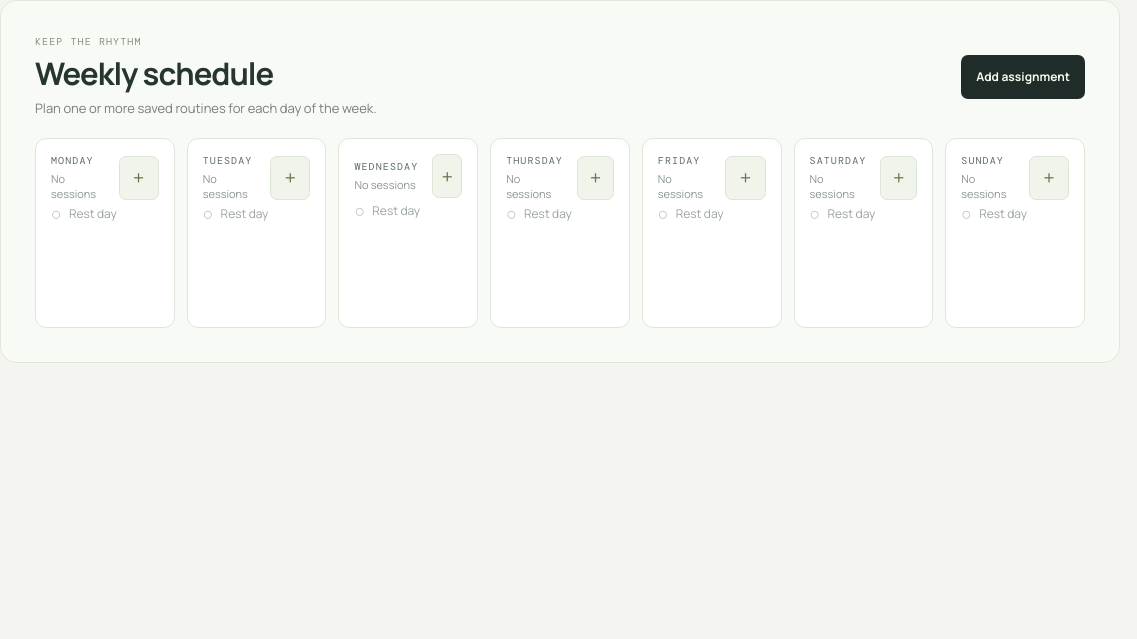
ScheduleEditor › adds an assignment for a weekday and persists it through the storage adapter
Click the button "Add assignment" at (1023, 77), box [961,55,1085,99]
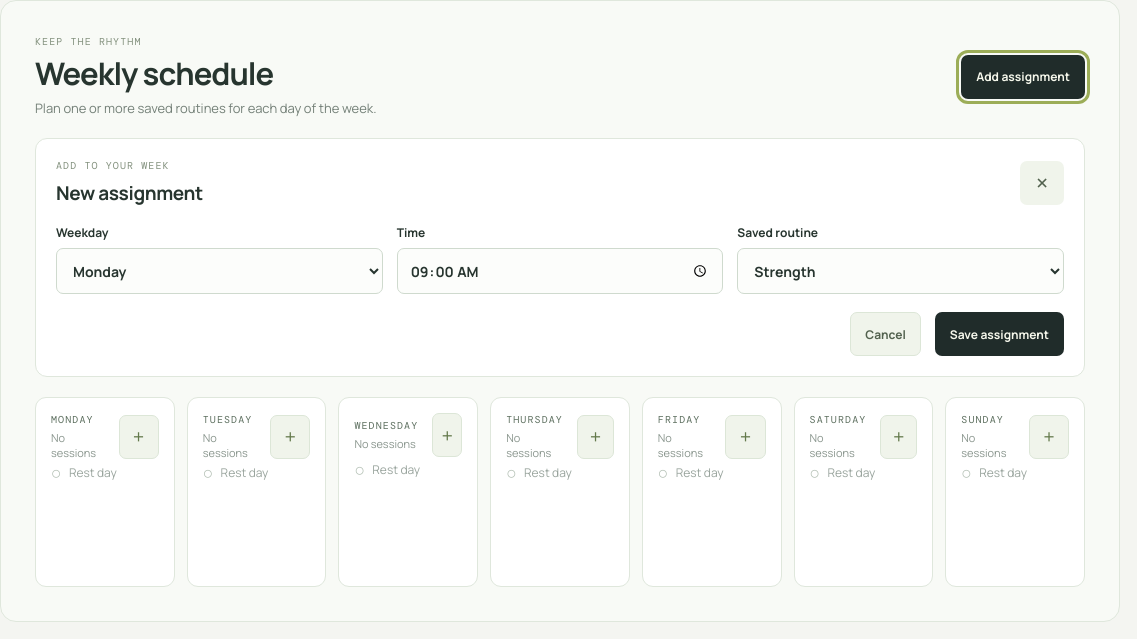
Select "Wednesday" in the dropdown labelled "Weekday" at (219, 271), box [56,248,383,294]
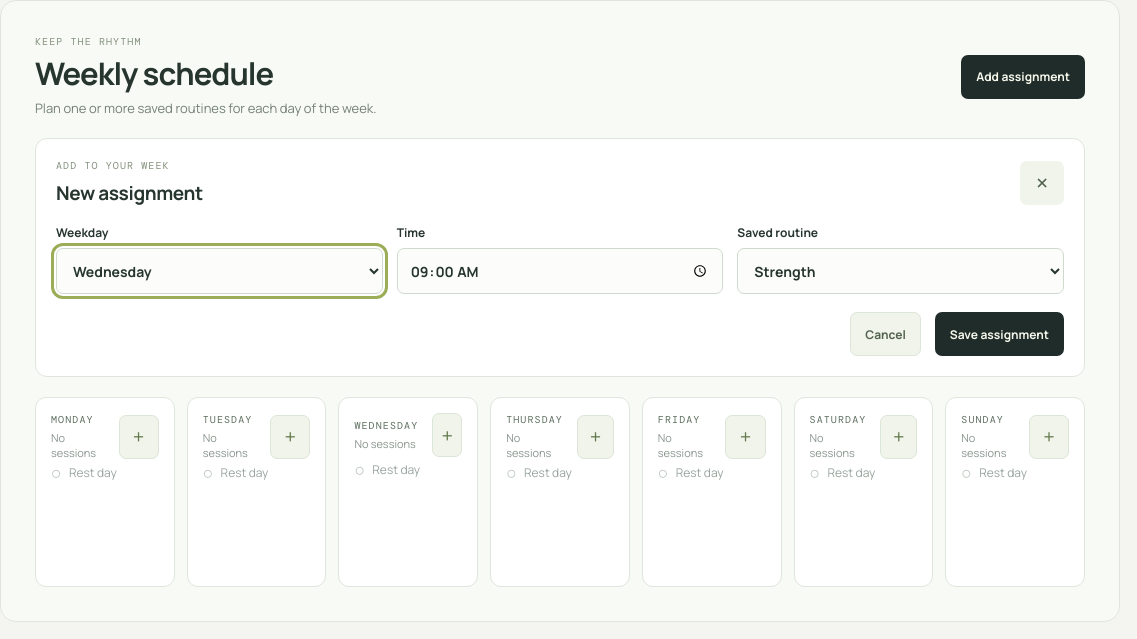
Replace the text in the time field labelled "Time" with "18:30" at (560, 271), box [397,248,723,294]
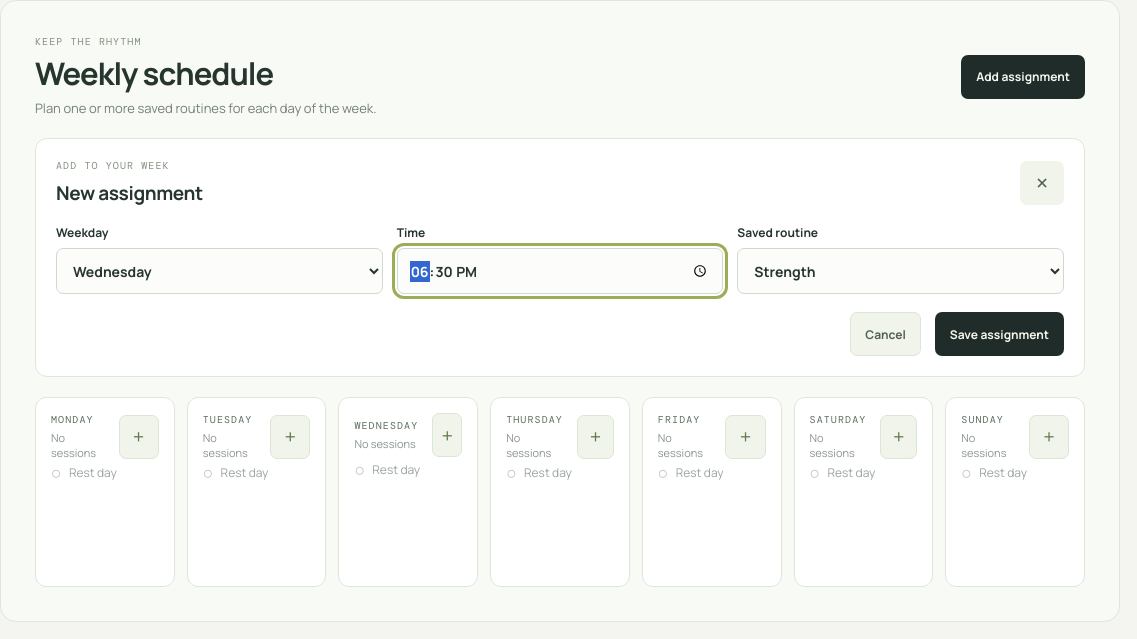
Select "Strength" in the dropdown labelled "Saved routine" at (901, 271), box [737,248,1064,294]
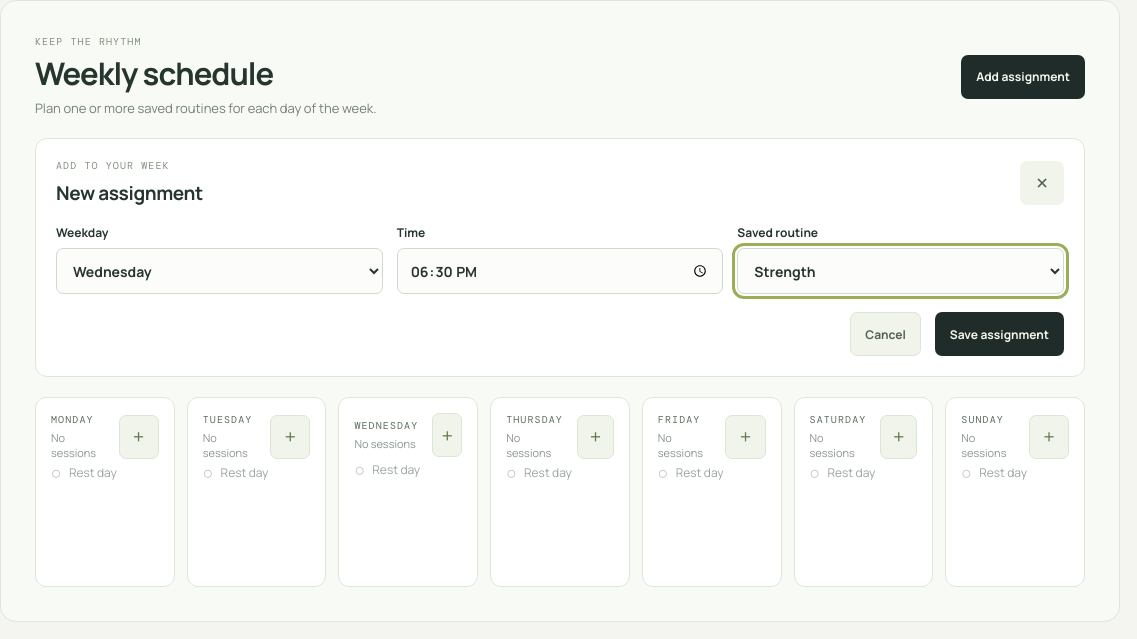
Click the button "Save assignment" at (999, 334), box [935,312,1064,356]
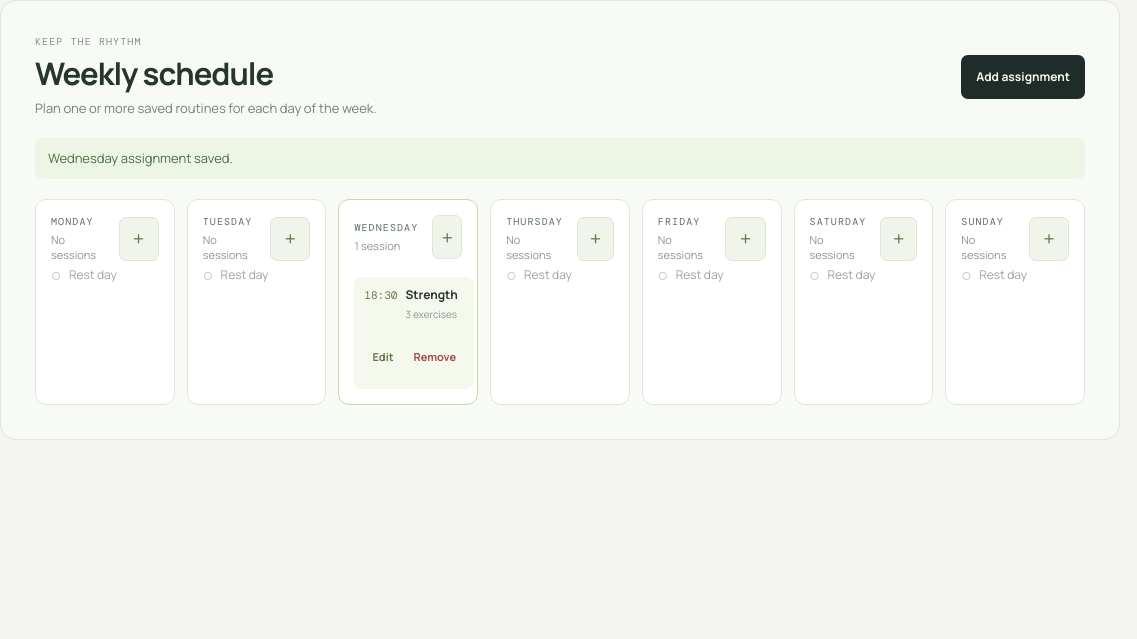
expect the text "Strength" is shown: met, box [405,287,458,304]
expect the text "1 session" is shown: met, box [354,238,400,253]
